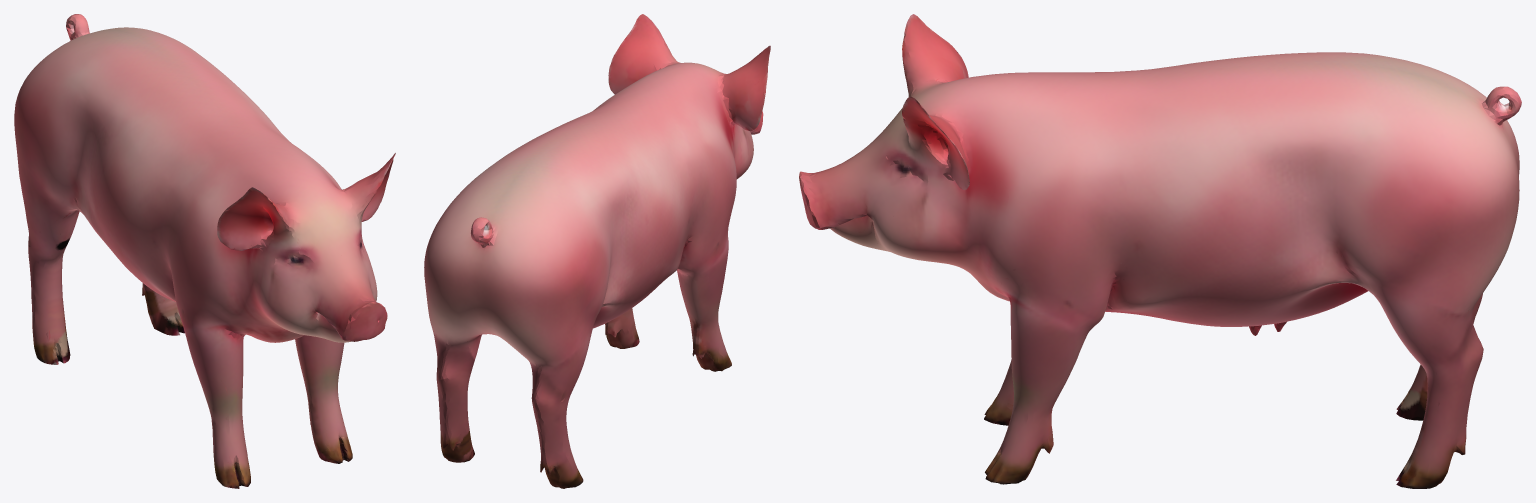
Rendered from pig.glb.
3 renders of one model, left to right at view 1: azimuth 30°, elevation 25°; view 2: azimuth 150°, elevation 25°; view 3: azimuth 270°, elevation 25°, orthographic. The views are drawn at different scales.
Visible parts, largest first — view 1: model; view 2: model; view 3: model.
Boxes of the visible parts, <box> form: model: <box>14,14,395,488</box>; model: <box>424,14,770,488</box>; model: <box>799,14,1521,488</box>.
Size of the model in its own units: 0.6108 by 1.13 by 1.89.
Materials: 1 (1 with a texture image).
